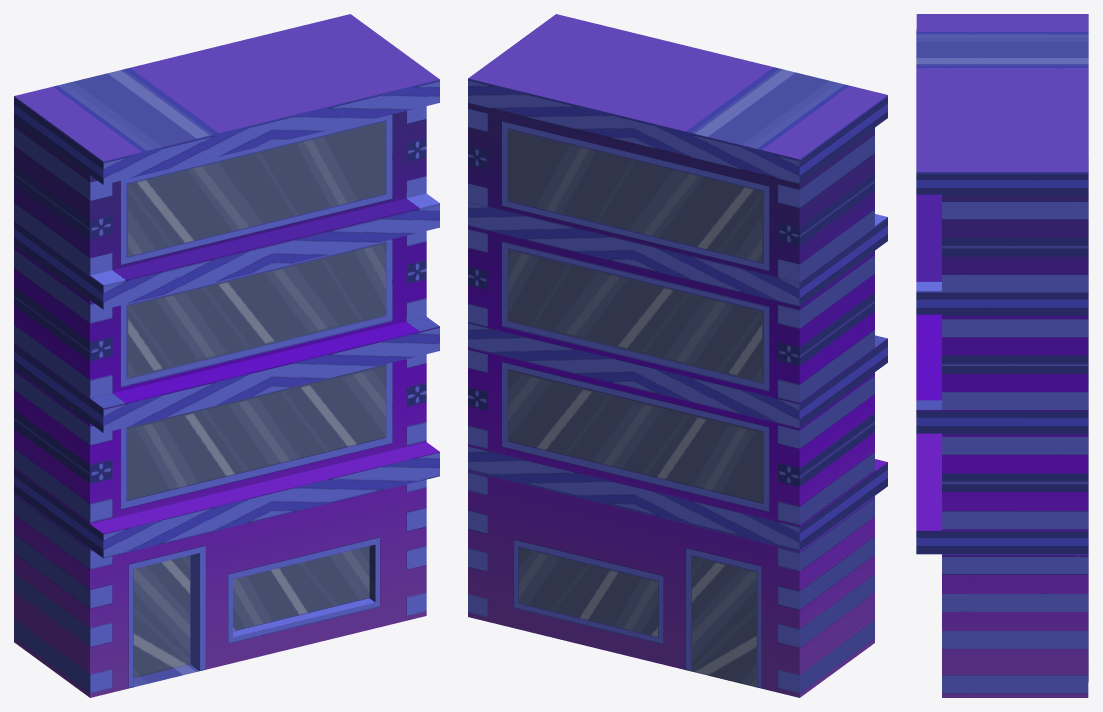
File: Bldg1.fbx
3 views of the same model, side by side, from view 1: azimuth 30°, elevation 25°; view 2: azimuth 150°, elevation 25°; view 3: azimuth 270°, elevation 25° (orthographic). The views are drawn at different scales.
Visible parts, largest first — view 1: Bldg_Combo_3:Building1:pCube5; view 2: Bldg_Combo_3:Building1:pCube5; view 3: Bldg_Combo_3:Building1:pCube5.
Boxes of the visible parts, bbox=[...] form: Bldg_Combo_3:Building1:pCube5: bbox=[14, 14, 439, 697]; Bldg_Combo_3:Building1:pCube5: bbox=[468, 14, 887, 697]; Bldg_Combo_3:Building1:pCube5: bbox=[916, 14, 1088, 697].
Bounding box in the file's own units: 6.39 × 9.92 × 2.94.
Materials: 1 (1 with a texture image).
